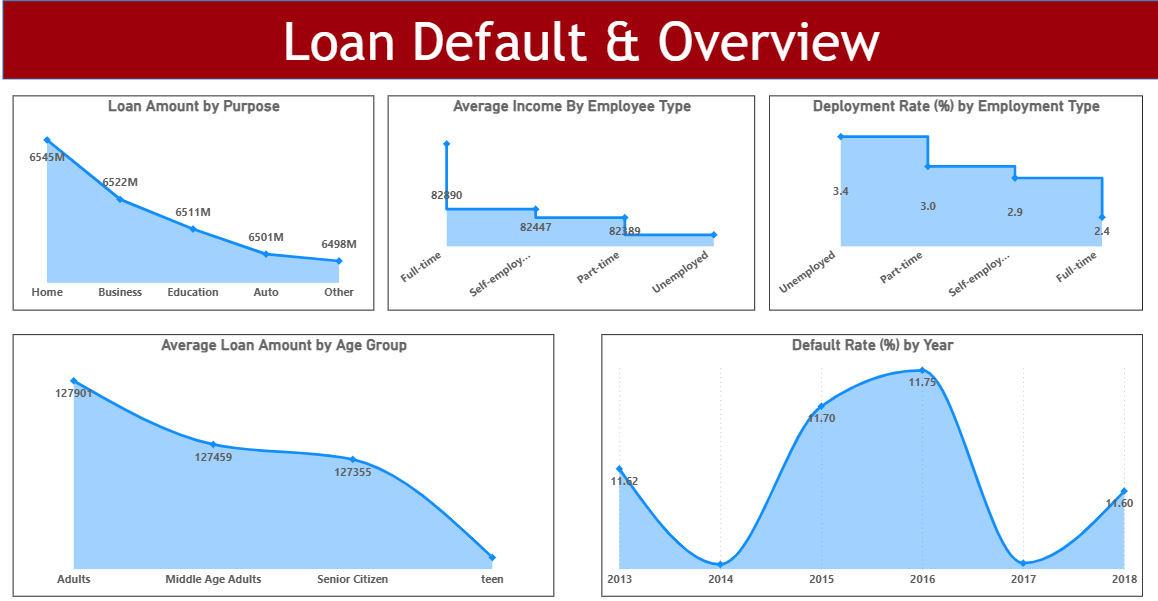

The dashboard page shown, as its layout file describes it:
{"tool":"powerbi","page":{"name":"Loan Default and Overview","canvas":[1280,720],"ordinal":0},"visuals":[{"type":"shape","box":[3.6,52.2,1270.7,86.6],"z":0},{"type":"lineChart","title":"Loan Amount by Purpose","fields":{"Y":["Measures Table1.Loan Amount by Purpose"],"Category":["Loan_default.LoanPurpose"]},"box":[15.1,156.4,396.6,236],"z":1000},{"type":"stackedAreaChart","title":"Average Income By Employee Type","fields":{"Category":["Loan_default.EmploymentType"],"Y":["Measures Table1.Average Income by Employement type"]},"box":[426.8,156.4,403.4,236],"z":2000},{"type":"stackedAreaChart","title":"Deployment Rate (%) by Employment Type","fields":{"Y":["Measures Table1.Default Rate by Employee type"],"Category":["Loan_default.EmploymentType"]},"box":[845.3,156.4,410.3,236],"z":3000},{"type":"stackedAreaChart","title":"Average Loan Amount by Age Group","fields":{"Category":["Loan_default.Age Groups"],"Y":["Measures Table1.Average Loan by Age Group"]},"box":[15.1,418.5,594.2,288.2],"z":4000},{"type":"stackedAreaChart","title":"Default Rate (%) by Year","fields":{"Y":["Measures Table1.Default Rate by Year"],"Category":["Loan_default.YEAR"]},"box":[661.4,418.5,594.2,288.2],"z":5000}]}

Visuals, with their boxes on the page's 1280x720 design canvas (x1, y1, x2, y2). These are canvas units, not pixel positions in the 1158x601 screenshot, which may show the page scaled, cropped or inside an application window:
shape: <region>4, 52, 1274, 139</region>
"Loan Amount by Purpose" lineChart: <region>15, 156, 412, 392</region>
"Average Income By Employee Type" stackedAreaChart: <region>427, 156, 830, 392</region>
"Deployment Rate (%) by Employment Type" stackedAreaChart: <region>845, 156, 1256, 392</region>
"Average Loan Amount by Age Group" stackedAreaChart: <region>15, 418, 609, 707</region>
"Default Rate (%) by Year" stackedAreaChart: <region>661, 418, 1256, 707</region>
